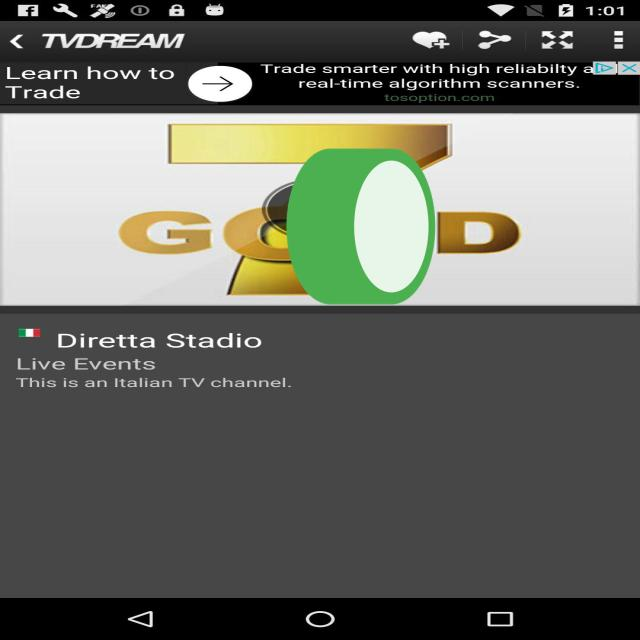social proof: (280, 89, 442, 376)
